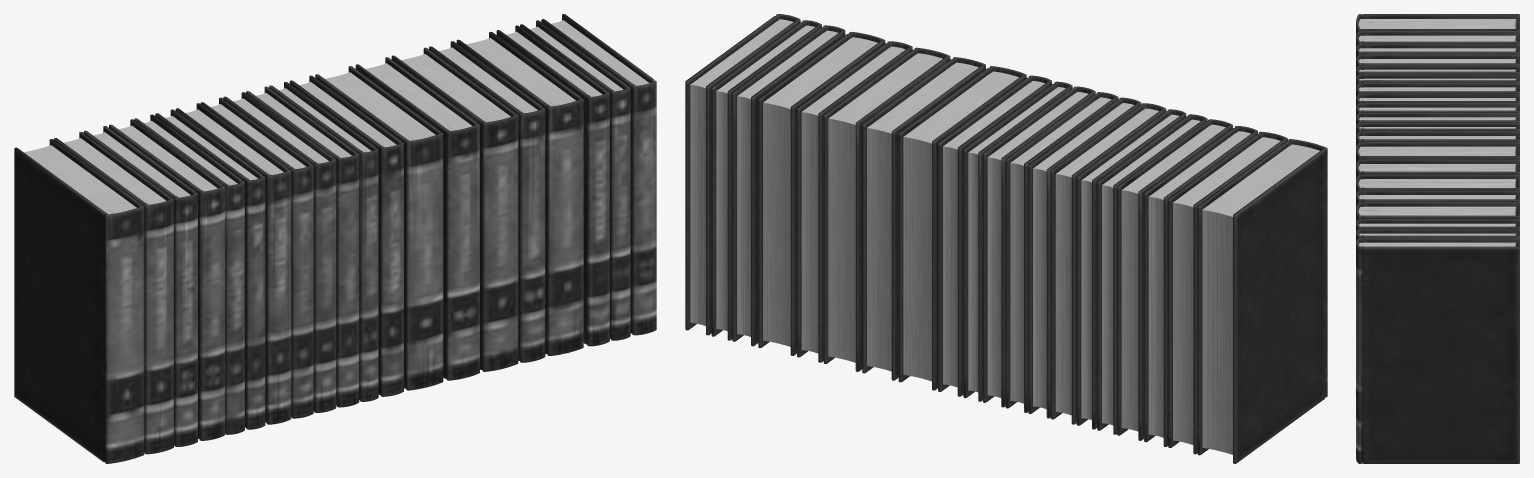
File: books.glb
The picture shows the model from 3 angles, left to right: view 1: azimuth 30°, elevation 25°; view 2: azimuth 150°, elevation 25°; view 3: azimuth 270°, elevation 25°; orthographic projection. The views are drawn at different scales.
Parts seen in each view (by area): view 1: book_encyclopedia_set_01_book01, book_encyclopedia_set_01_book13, book_encyclopedia_set_01_book15, book_encyclopedia_set_01_book17, book_encyclopedia_set_01_book14, book_encyclopedia_set_01_book02, book_encyclopedia_set_01_book16, book_encyclopedia_set_01_book04, book_encyclopedia_set_01_book18, book_encyclopedia_set_01_book20, book_encyclopedia_set_01_book07, book_encyclopedia_set_01_book12 (+8 smaller); view 2: book_encyclopedia_set_01_book01, book_encyclopedia_set_01_book13, book_encyclopedia_set_01_book15, book_encyclopedia_set_01_book17, book_encyclopedia_set_01_book14, book_encyclopedia_set_01_book02, book_encyclopedia_set_01_book04, book_encyclopedia_set_01_book16, book_encyclopedia_set_01_book18, book_encyclopedia_set_01_book20, book_encyclopedia_set_01_book07, book_encyclopedia_set_01_book12 (+8 smaller); view 3: book_encyclopedia_set_01_book20, book_encyclopedia_set_01_book13, book_encyclopedia_set_01_book01, book_encyclopedia_set_01_book17, book_encyclopedia_set_01_book15, book_encyclopedia_set_01_book14, book_encyclopedia_set_01_book02, book_encyclopedia_set_01_book16, book_encyclopedia_set_01_book03, book_encyclopedia_set_01_book12, book_encyclopedia_set_01_book07, book_encyclopedia_set_01_book04 (+8 smaller).
Part boxes in pixels (x1,y1,x2,y2): book_encyclopedia_set_01_book01: (14,139,144,463); book_encyclopedia_set_01_book13: (315,66,443,390); book_encyclopedia_set_01_book15: (391,47,518,371); book_encyclopedia_set_01_book17: (456,31,583,355); book_encyclopedia_set_01_book14: (355,57,479,380); book_encyclopedia_set_01_book02: (54,132,173,454); book_encyclopedia_set_01_book16: (429,41,545,362); book_encyclopedia_set_01_book04: (109,119,224,440); book_encyclopedia_set_01_book18: (496,25,609,346); book_encyclopedia_set_01_book20: (541,14,656,335); book_encyclopedia_set_01_book07: (175,103,291,424); book_encyclopedia_set_01_book12: (289,75,403,396); book_encyclopedia_set_01_book01: (1197,139,1327,463); book_encyclopedia_set_01_book13: (898,66,1026,390); book_encyclopedia_set_01_book15: (823,47,950,371); book_encyclopedia_set_01_book17: (758,32,885,355); book_encyclopedia_set_01_book14: (862,57,985,380); book_encyclopedia_set_01_book02: (1168,131,1287,454); book_encyclopedia_set_01_book04: (1117,119,1232,440); book_encyclopedia_set_01_book16: (797,41,912,362); book_encyclopedia_set_01_book18: (732,25,845,346); book_encyclopedia_set_01_book20: (685,14,800,335); book_encyclopedia_set_01_book07: (1051,103,1166,424); book_encyclopedia_set_01_book12: (938,75,1051,396); book_encyclopedia_set_01_book20: (1356,238,1519,463); book_encyclopedia_set_01_book13: (1356,142,1519,165); book_encyclopedia_set_01_book01: (1356,14,1519,35); book_encyclopedia_set_01_book17: (1356,202,1519,221); book_encyclopedia_set_01_book15: (1356,174,1519,194); book_encyclopedia_set_01_book14: (1356,159,1519,180); book_encyclopedia_set_01_book02: (1356,30,1519,47); book_encyclopedia_set_01_book16: (1356,190,1519,222); book_encyclopedia_set_01_book03: (1356,43,1519,58); book_encyclopedia_set_01_book12: (1356,131,1519,149); book_encyclopedia_set_01_book07: (1356,82,1519,96); book_encyclopedia_set_01_book04: (1356,54,1519,68).
Bounding box in the file's own units: 0.5513 × 0.2374 × 0.1631.
Materials: 2 (2 with a texture image).
